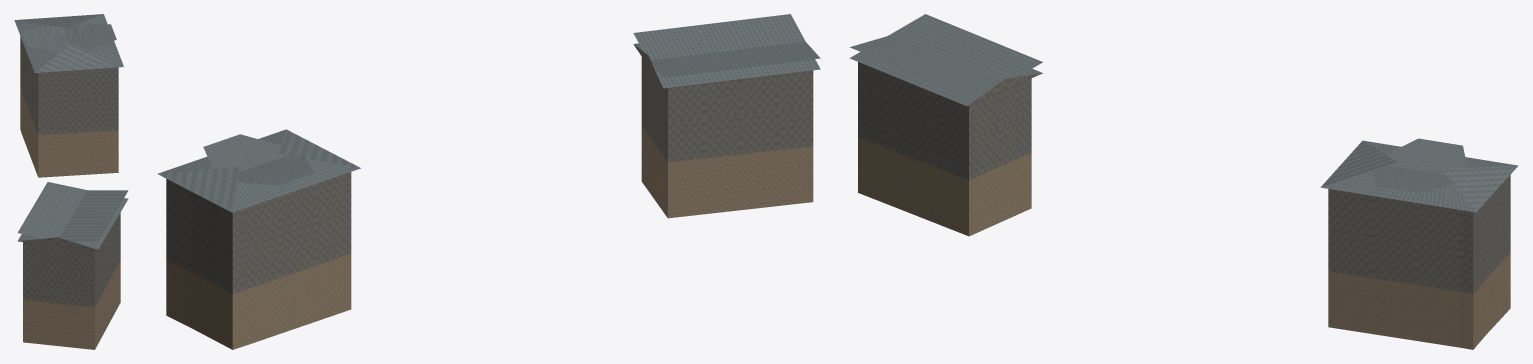
File: bld_c31_-40_463.gltf
3 renders of one model, left to right at view 1: azimuth 30°, elevation 25°; view 2: azimuth 150°, elevation 25°; view 3: azimuth 270°, elevation 25°, orthographic. The views are drawn at different scales.
Parts seen in each view (by area): view 1: bld_c31_-40_463; view 2: bld_c31_-40_463; view 3: bld_c31_-40_463.
Part boxes in pixels (<box>): bld_c31_-40_463: <box>14,14,128,349</box>; bld_c31_-40_463: <box>157,14,820,349</box>; bld_c31_-40_463: <box>849,14,1517,349</box>.
Bounding box in the file's own units: 36.91 × 13.8 × 55.01.
Materials: 4 (4 with a texture image).
